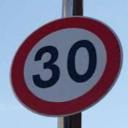speed_limit_30: (8, 13, 126, 121)
